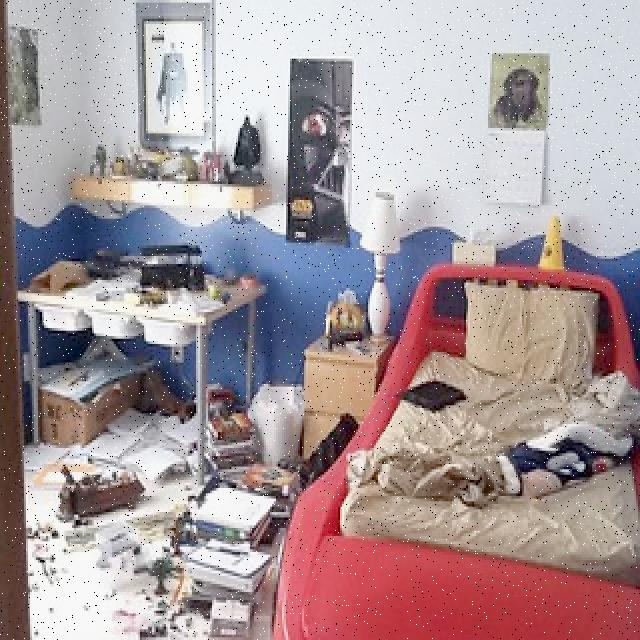bed: (292, 245, 640, 640)
